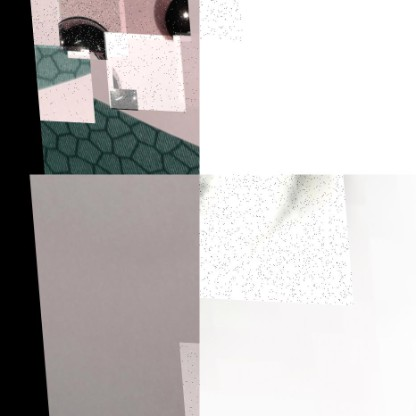ironball: (57, 11, 109, 55), (27, 0, 59, 47), (149, 0, 189, 35)
